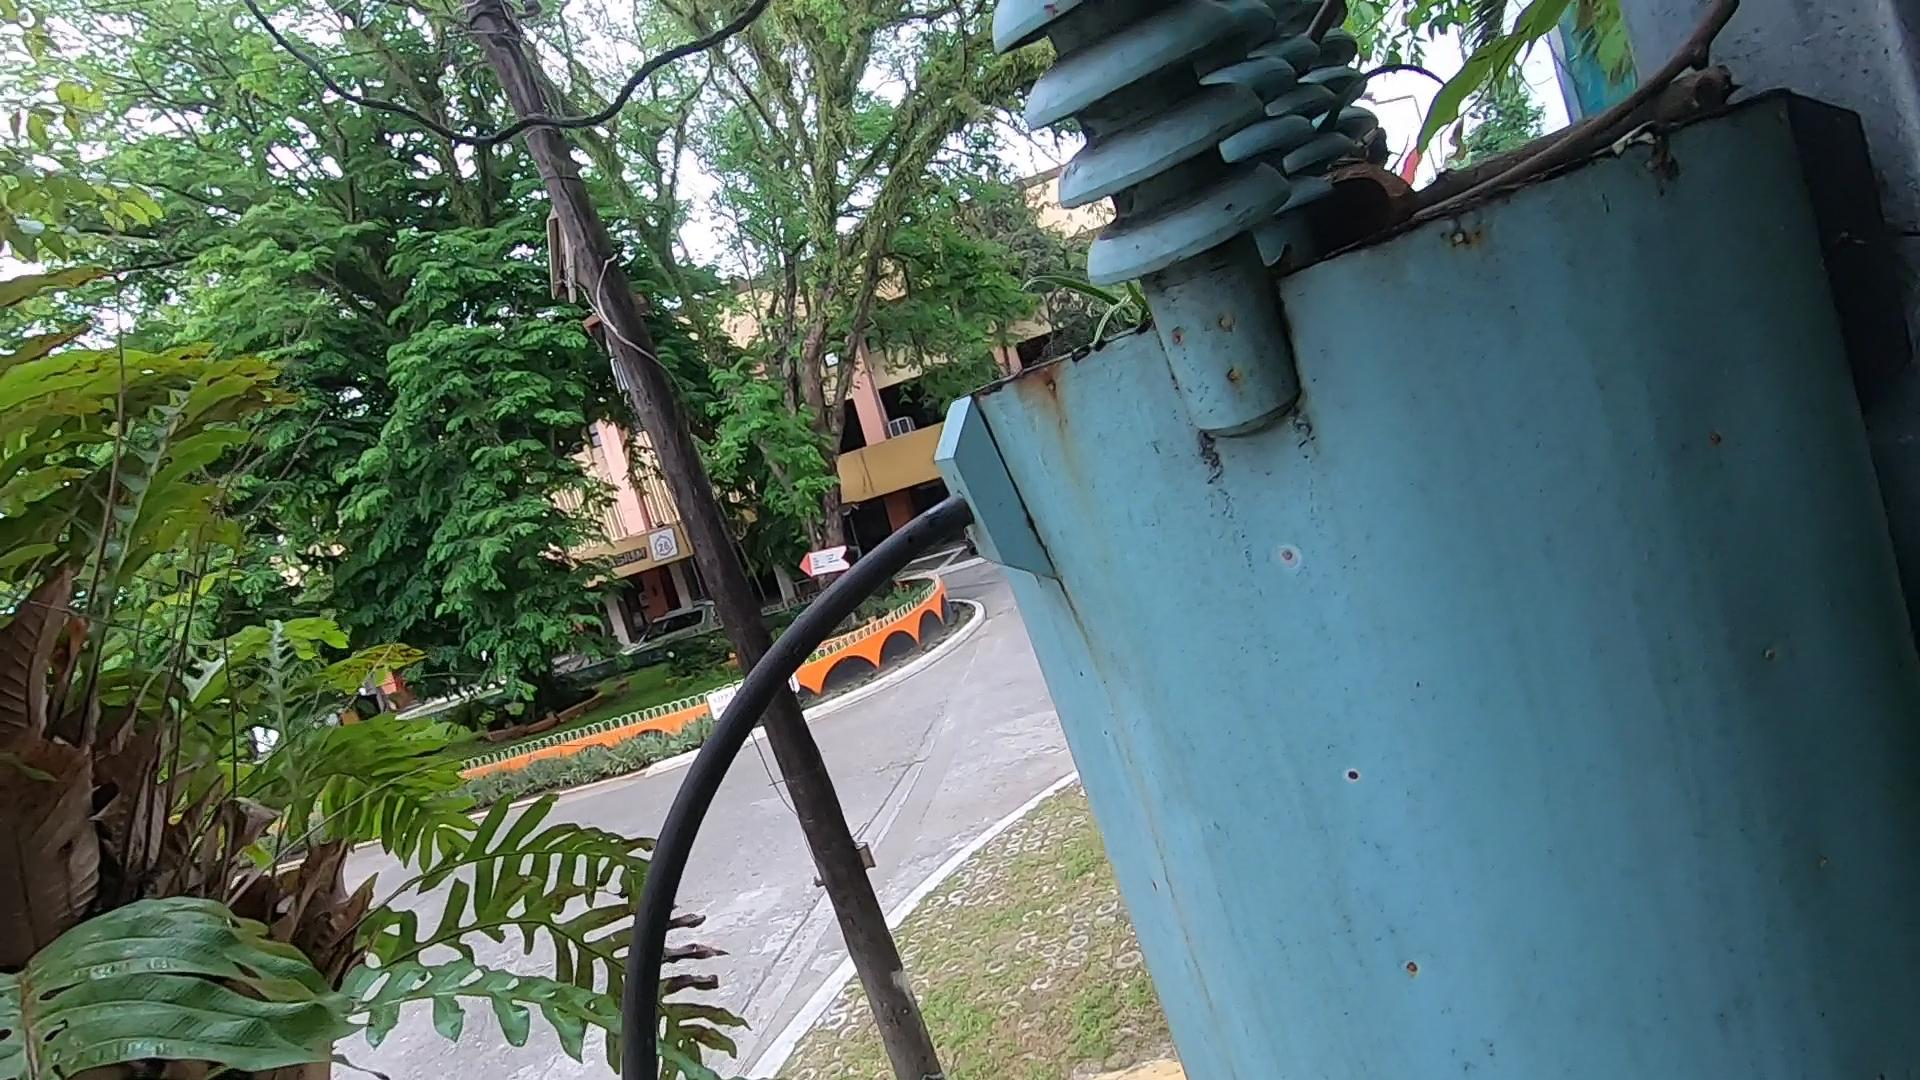mahogany fruit: (1305, 136, 1485, 290)
tree branch: (1383, 1, 1741, 258), (1370, 69, 1726, 178)
